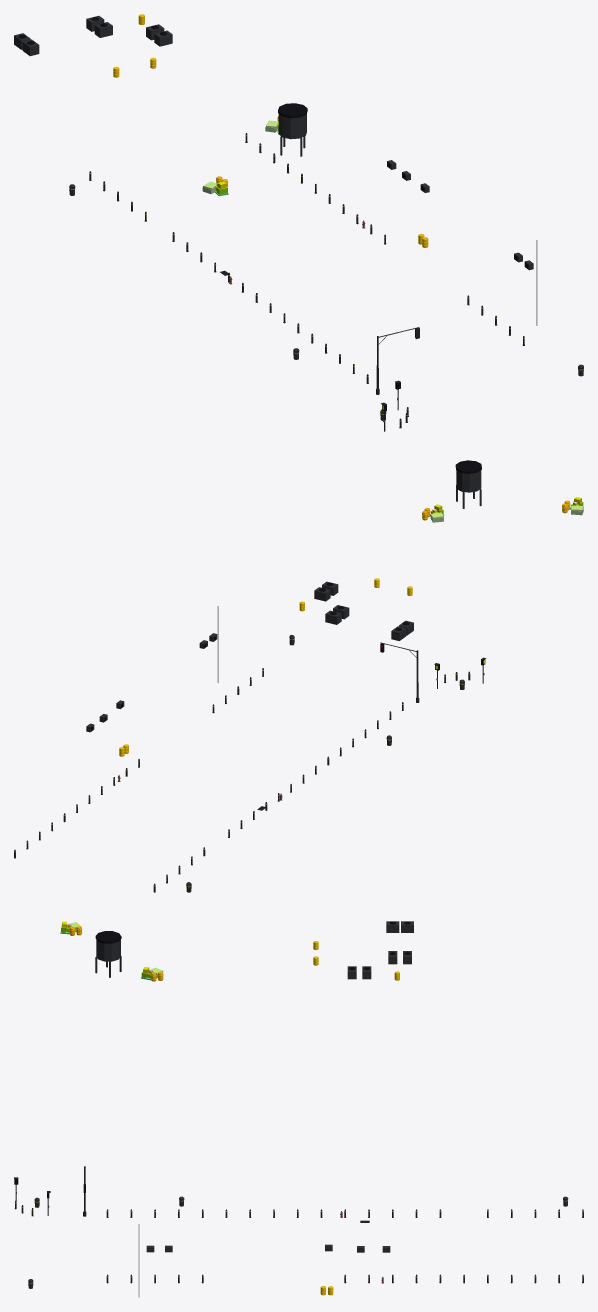
Rendered from world-high-exterior-props.glb.
3 renders of one model, top to bottom at view 1: azimuth 30°, elevation 25°; view 2: azimuth 150°, elevation 25°; view 3: azimuth 270°, elevation 25°, orthographic. The views are drawn at different scales.
Parts seen in each view (by area): view 1: exterior_props_trim_1; view 2: exterior_props_trim_1; view 3: exterior_props_trim_1, exterior_props_worn_1.
Boxes of the visible parts, <box> form: exterior_props_trim_1: <box>14,15,583,431</box>; exterior_props_trim_1: <box>14,460,486,892</box>; exterior_props_trim_1: <box>14,921,583,1288</box>; exterior_props_worn_1: <box>69,926,399,1295</box>.
Size of the model in its own units: 40.24 by 30.35 by 62.35.
